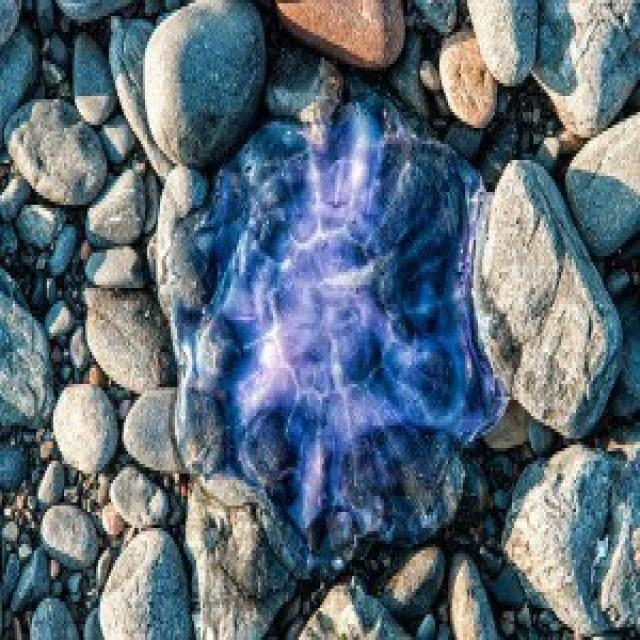Jellyfish: (183, 114, 512, 560)
